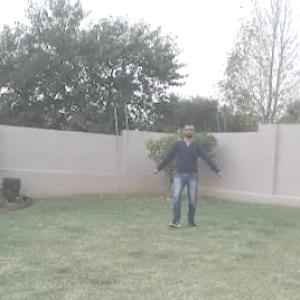land: (144, 107, 228, 242)
